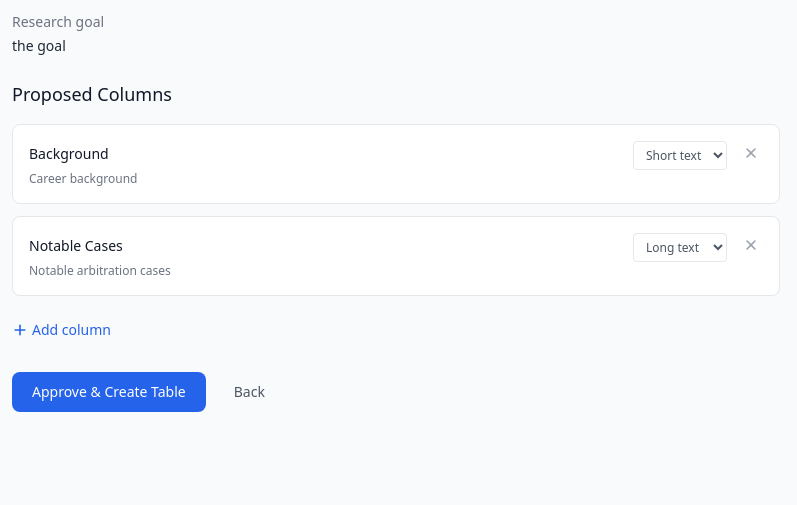
Test: ColumnEditor › can add a new column
Click the button "Add column".
click(62, 330)  # box [12,320,111,340]
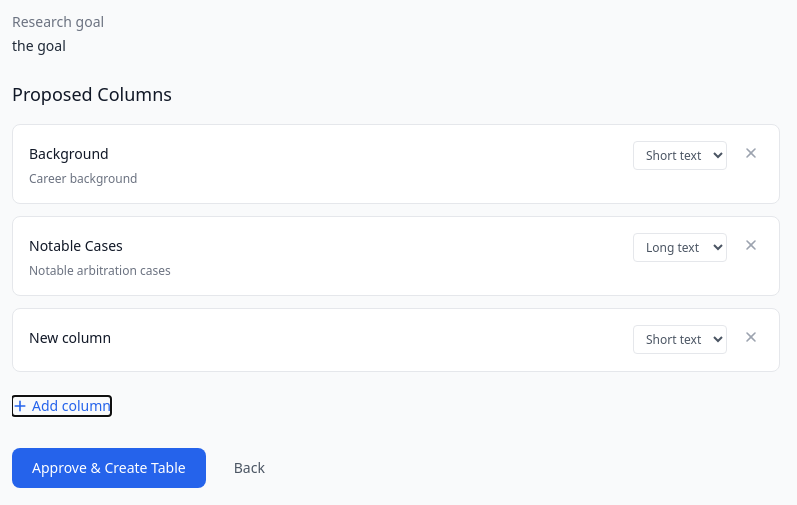
expect the 3rd field showing "New column" is shown: met, box [29,328,621,351]
